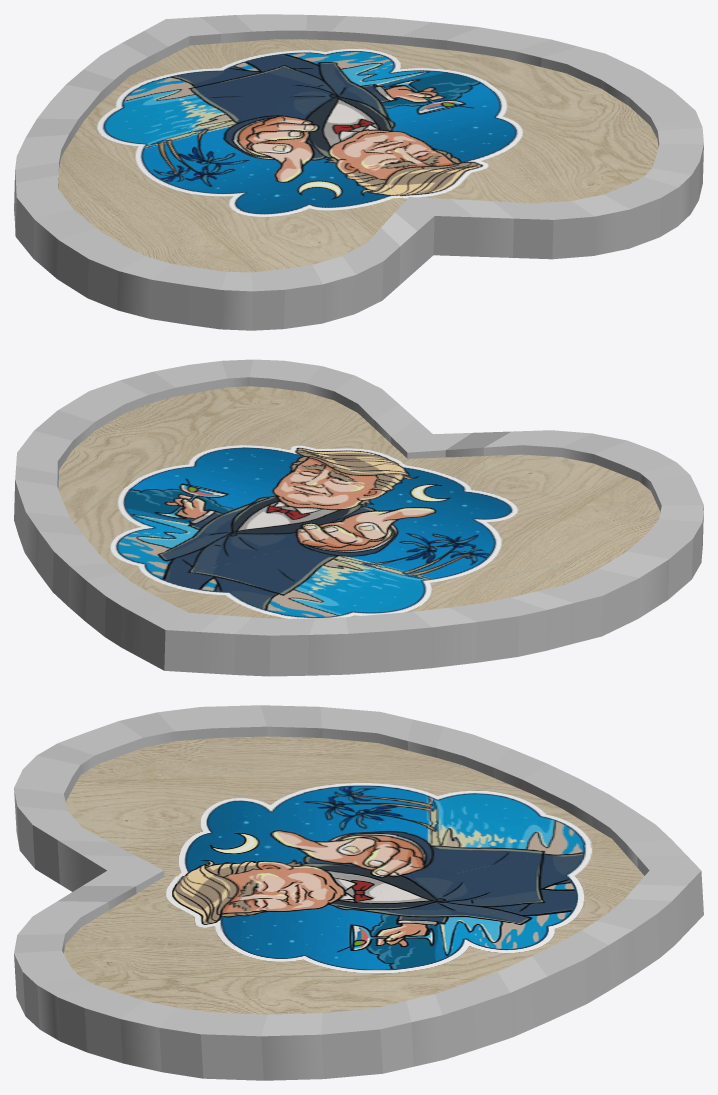
File: Puzzle_40.FBX
The picture shows the model from 3 angles, top to bottom: view 1: azimuth 30°, elevation 25°; view 2: azimuth 150°, elevation 25°; view 3: azimuth 270°, elevation 25°; orthographic projection. The views are drawn at different scales.
Parts seen in each view (by area): view 1: Wood_1, 016, 015, 013, 017, 012, 011, 014; view 2: Wood_1, 015, 016, 013, 017, 012, 011, 014; view 3: Wood_1, 016, 015, 013, 017, 012, 011, 014.
Part boxes in pixels (left/top/right/bottom): Wood_1: left=14, top=14, right=703, bottom=330; 016: left=58, top=158, right=405, bottom=272; 015: left=286, top=39, right=649, bottom=149; 013: left=61, top=76, right=276, bottom=228; 017: left=362, top=126, right=658, bottom=203; 012: left=191, top=102, right=369, bottom=227; 011: left=277, top=65, right=474, bottom=165; 014: left=128, top=39, right=375, bottom=102; Wood_1: left=14, top=359, right=703, bottom=676; 015: left=58, top=413, right=276, bottom=583; 016: left=361, top=454, right=660, bottom=602; 013: left=275, top=521, right=568, bottom=618; 017: left=125, top=386, right=407, bottom=489; 012: left=275, top=475, right=566, bottom=568; 011: left=190, top=460, right=361, bottom=573; 014: left=135, top=524, right=281, bottom=618; Wood_1: left=14, top=705, right=703, bottom=1080; 016: left=65, top=736, right=462, bottom=876; 015: left=213, top=922, right=593, bottom=1014; 013: left=220, top=756, right=611, bottom=873; 017: left=64, top=873, right=267, bottom=1012; 012: left=194, top=774, right=456, bottom=898; 011: left=247, top=873, right=545, bottom=949; 014: left=441, top=838, right=644, bottom=923.
Bounding box in the file's own units: 4.23 × 0.2682 × 3.72.
